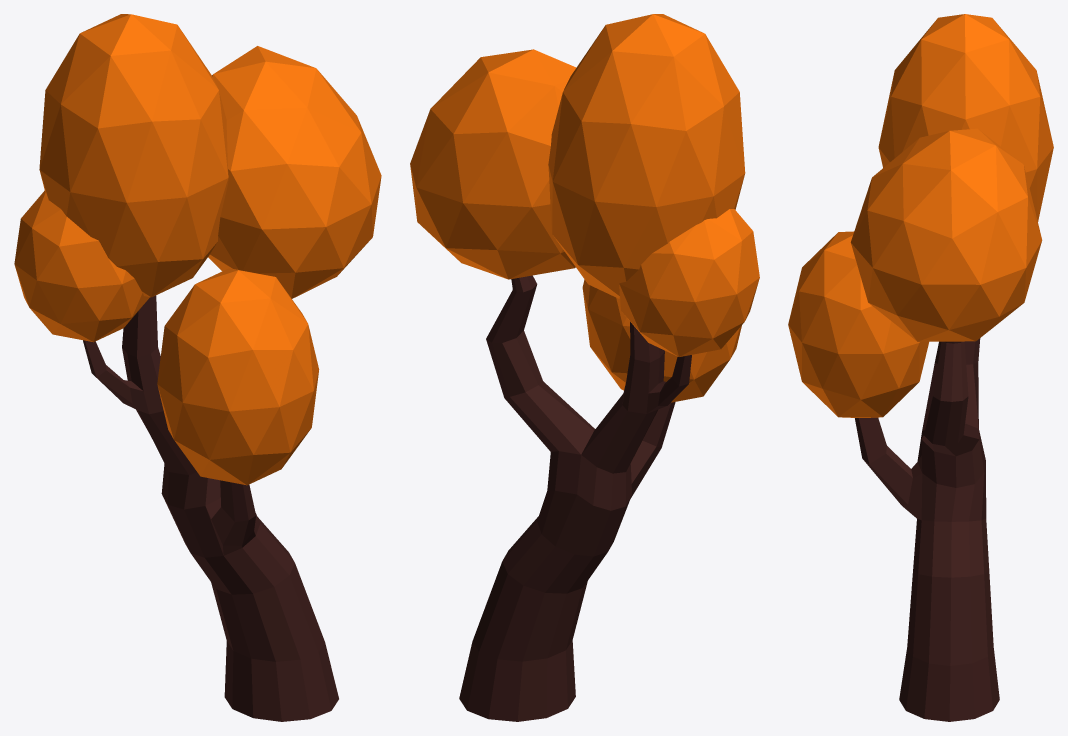
The model's file is Tree9.fbx.
3 renders of one model, left to right at view 1: azimuth 30°, elevation 25°; view 2: azimuth 150°, elevation 25°; view 3: azimuth 270°, elevation 25°, orthographic. The views are drawn at different scales.
Parts seen in each view (by area): view 1: Tree9; view 2: Tree9; view 3: Tree9.
Boxes of the visible parts, left/top/right/bottom form: Tree9: left=14, top=14, right=381, bottom=721; Tree9: left=410, top=14, right=759, bottom=721; Tree9: left=788, top=14, right=1053, bottom=721.
Size of the model in its own units: 1365 by 2825 by 1087.
